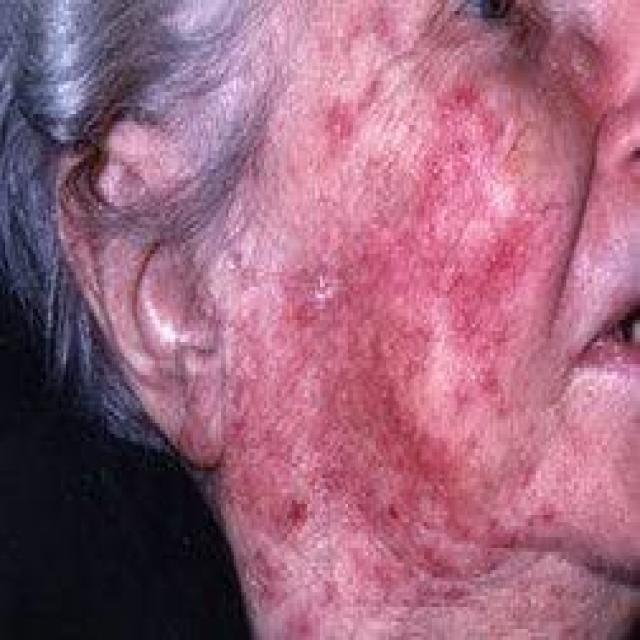Rosacea: (251, 60, 564, 580)
